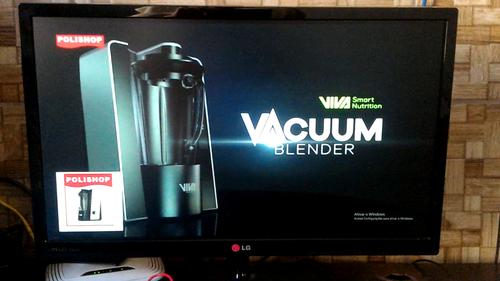Polishop #1: (55, 170, 124, 230)
